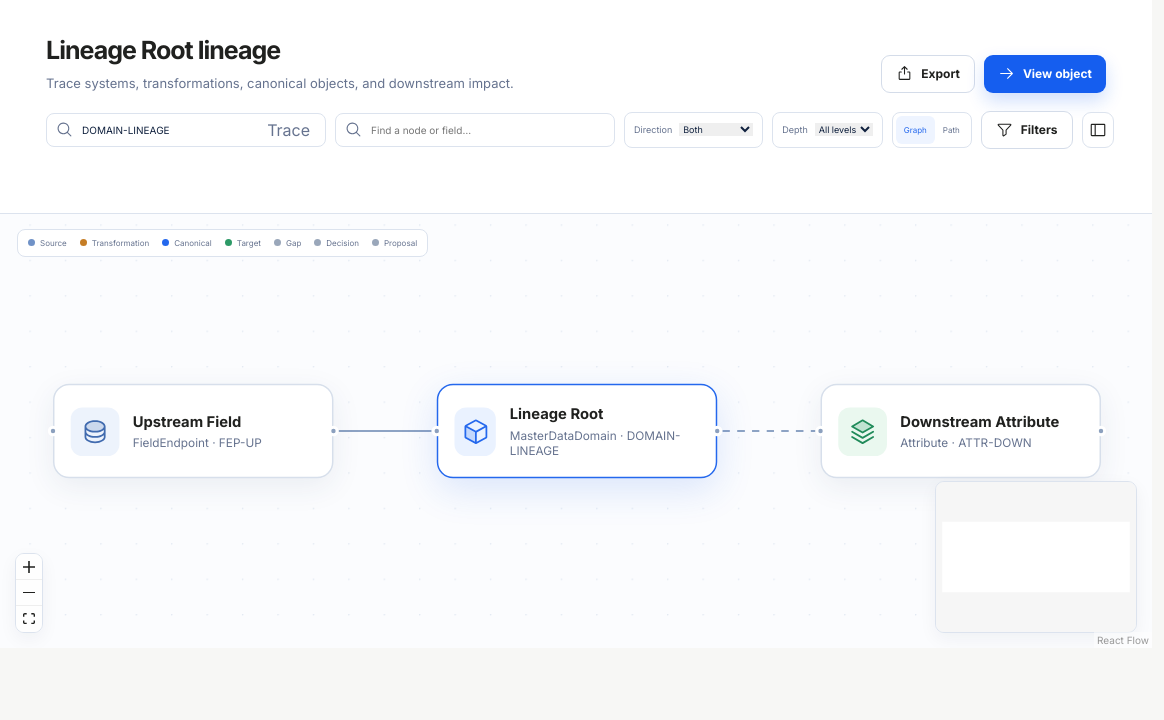
Test: LineageScreen › renders the path view with live upstream, downstream, and impact summary
This screenshot has width=1164, height=720.
Expected: the heading "Lineage Root lineage" is shown, [46, 35, 280, 65]
Click the button with aria-label "Path list view" at (951, 130), box [935, 116, 968, 144]
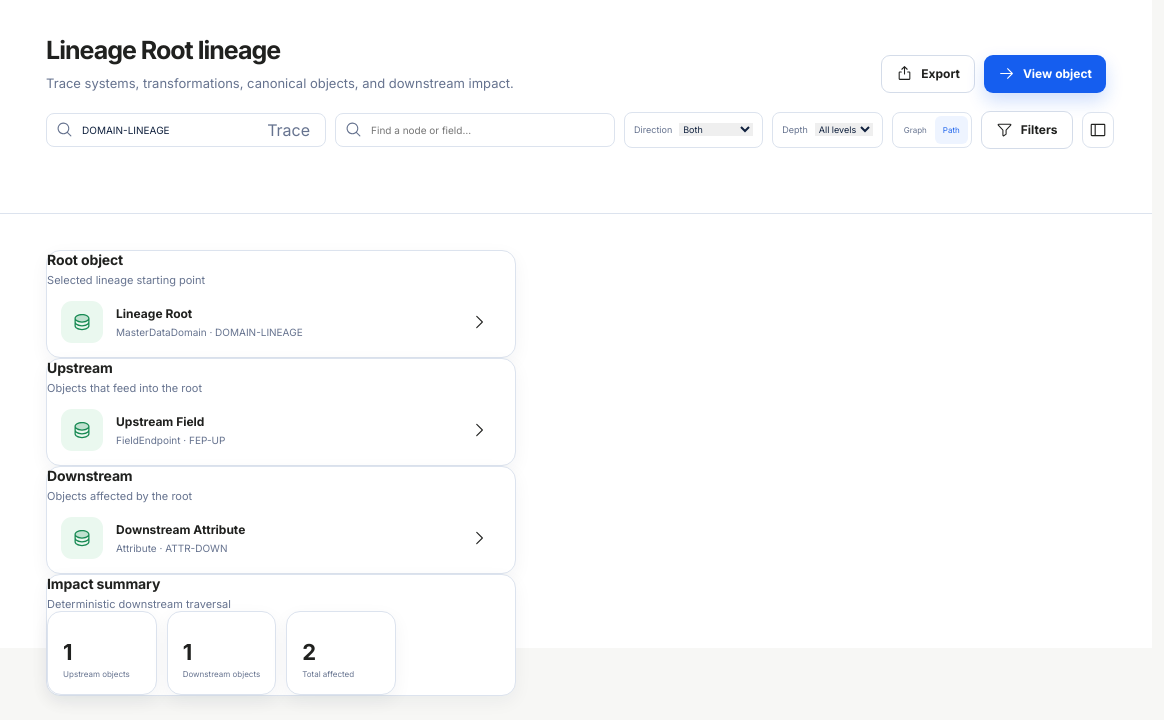
Expected: the text "Upstream Field" is shown, [116, 414, 204, 429]
Expected: the text "Total affected" is shown, [302, 669, 354, 679]
